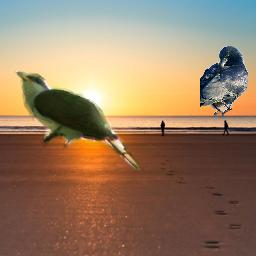Crow: (200, 46, 248, 117)
Cuckoo: (13, 71, 144, 171)
